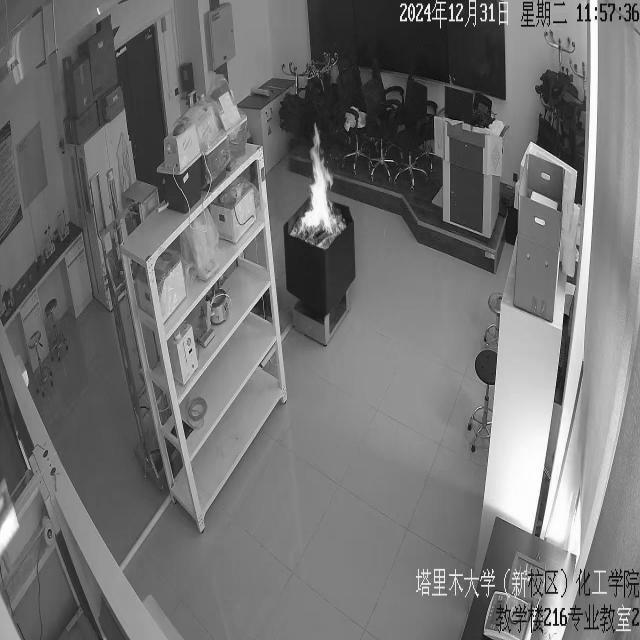smoke: (292, 124, 344, 242)
